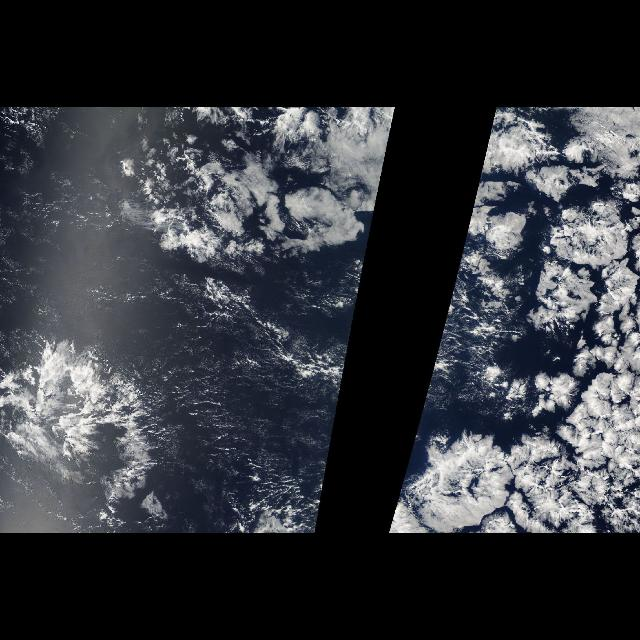Fish: (1, 316, 180, 524)
Gravel: (152, 262, 364, 432), (416, 262, 548, 432)
Sugar: (156, 263, 364, 512), (402, 428, 418, 482)
